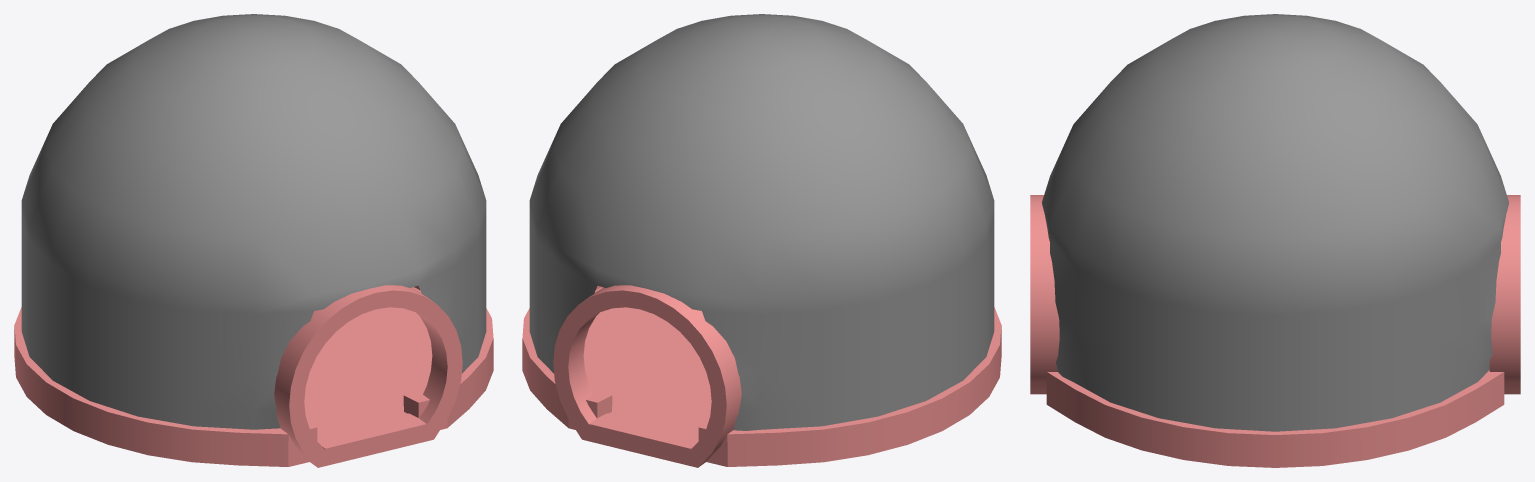
File: RocketStation_Corridor_Room_01.gltf
The picture shows the model from 3 angles, left to right: view 1: azimuth 30°, elevation 25°; view 2: azimuth 150°, elevation 25°; view 3: azimuth 270°, elevation 25°; orthographic projection.
Visible parts, largest first — view 1: RocketStation_Corridor_Room_01; view 2: RocketStation_Corridor_Room_01; view 3: RocketStation_Corridor_Room_01.
Part boxes in pixels (x1,y1,x2,y2): RocketStation_Corridor_Room_01: (14, 14, 493, 467); RocketStation_Corridor_Room_01: (522, 14, 1001, 467); RocketStation_Corridor_Room_01: (1030, 14, 1520, 467).
Size of the model in its own units: 2.65 by 2.01 by 2.69.
